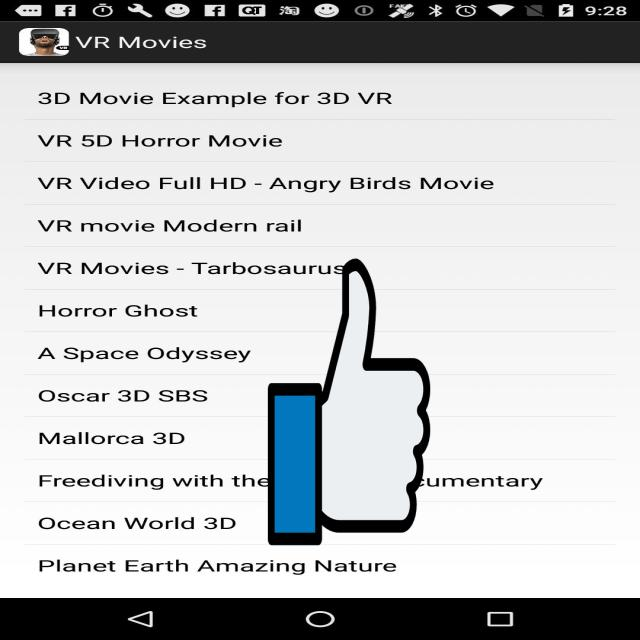privacy zuckering: (268, 253, 430, 552)
